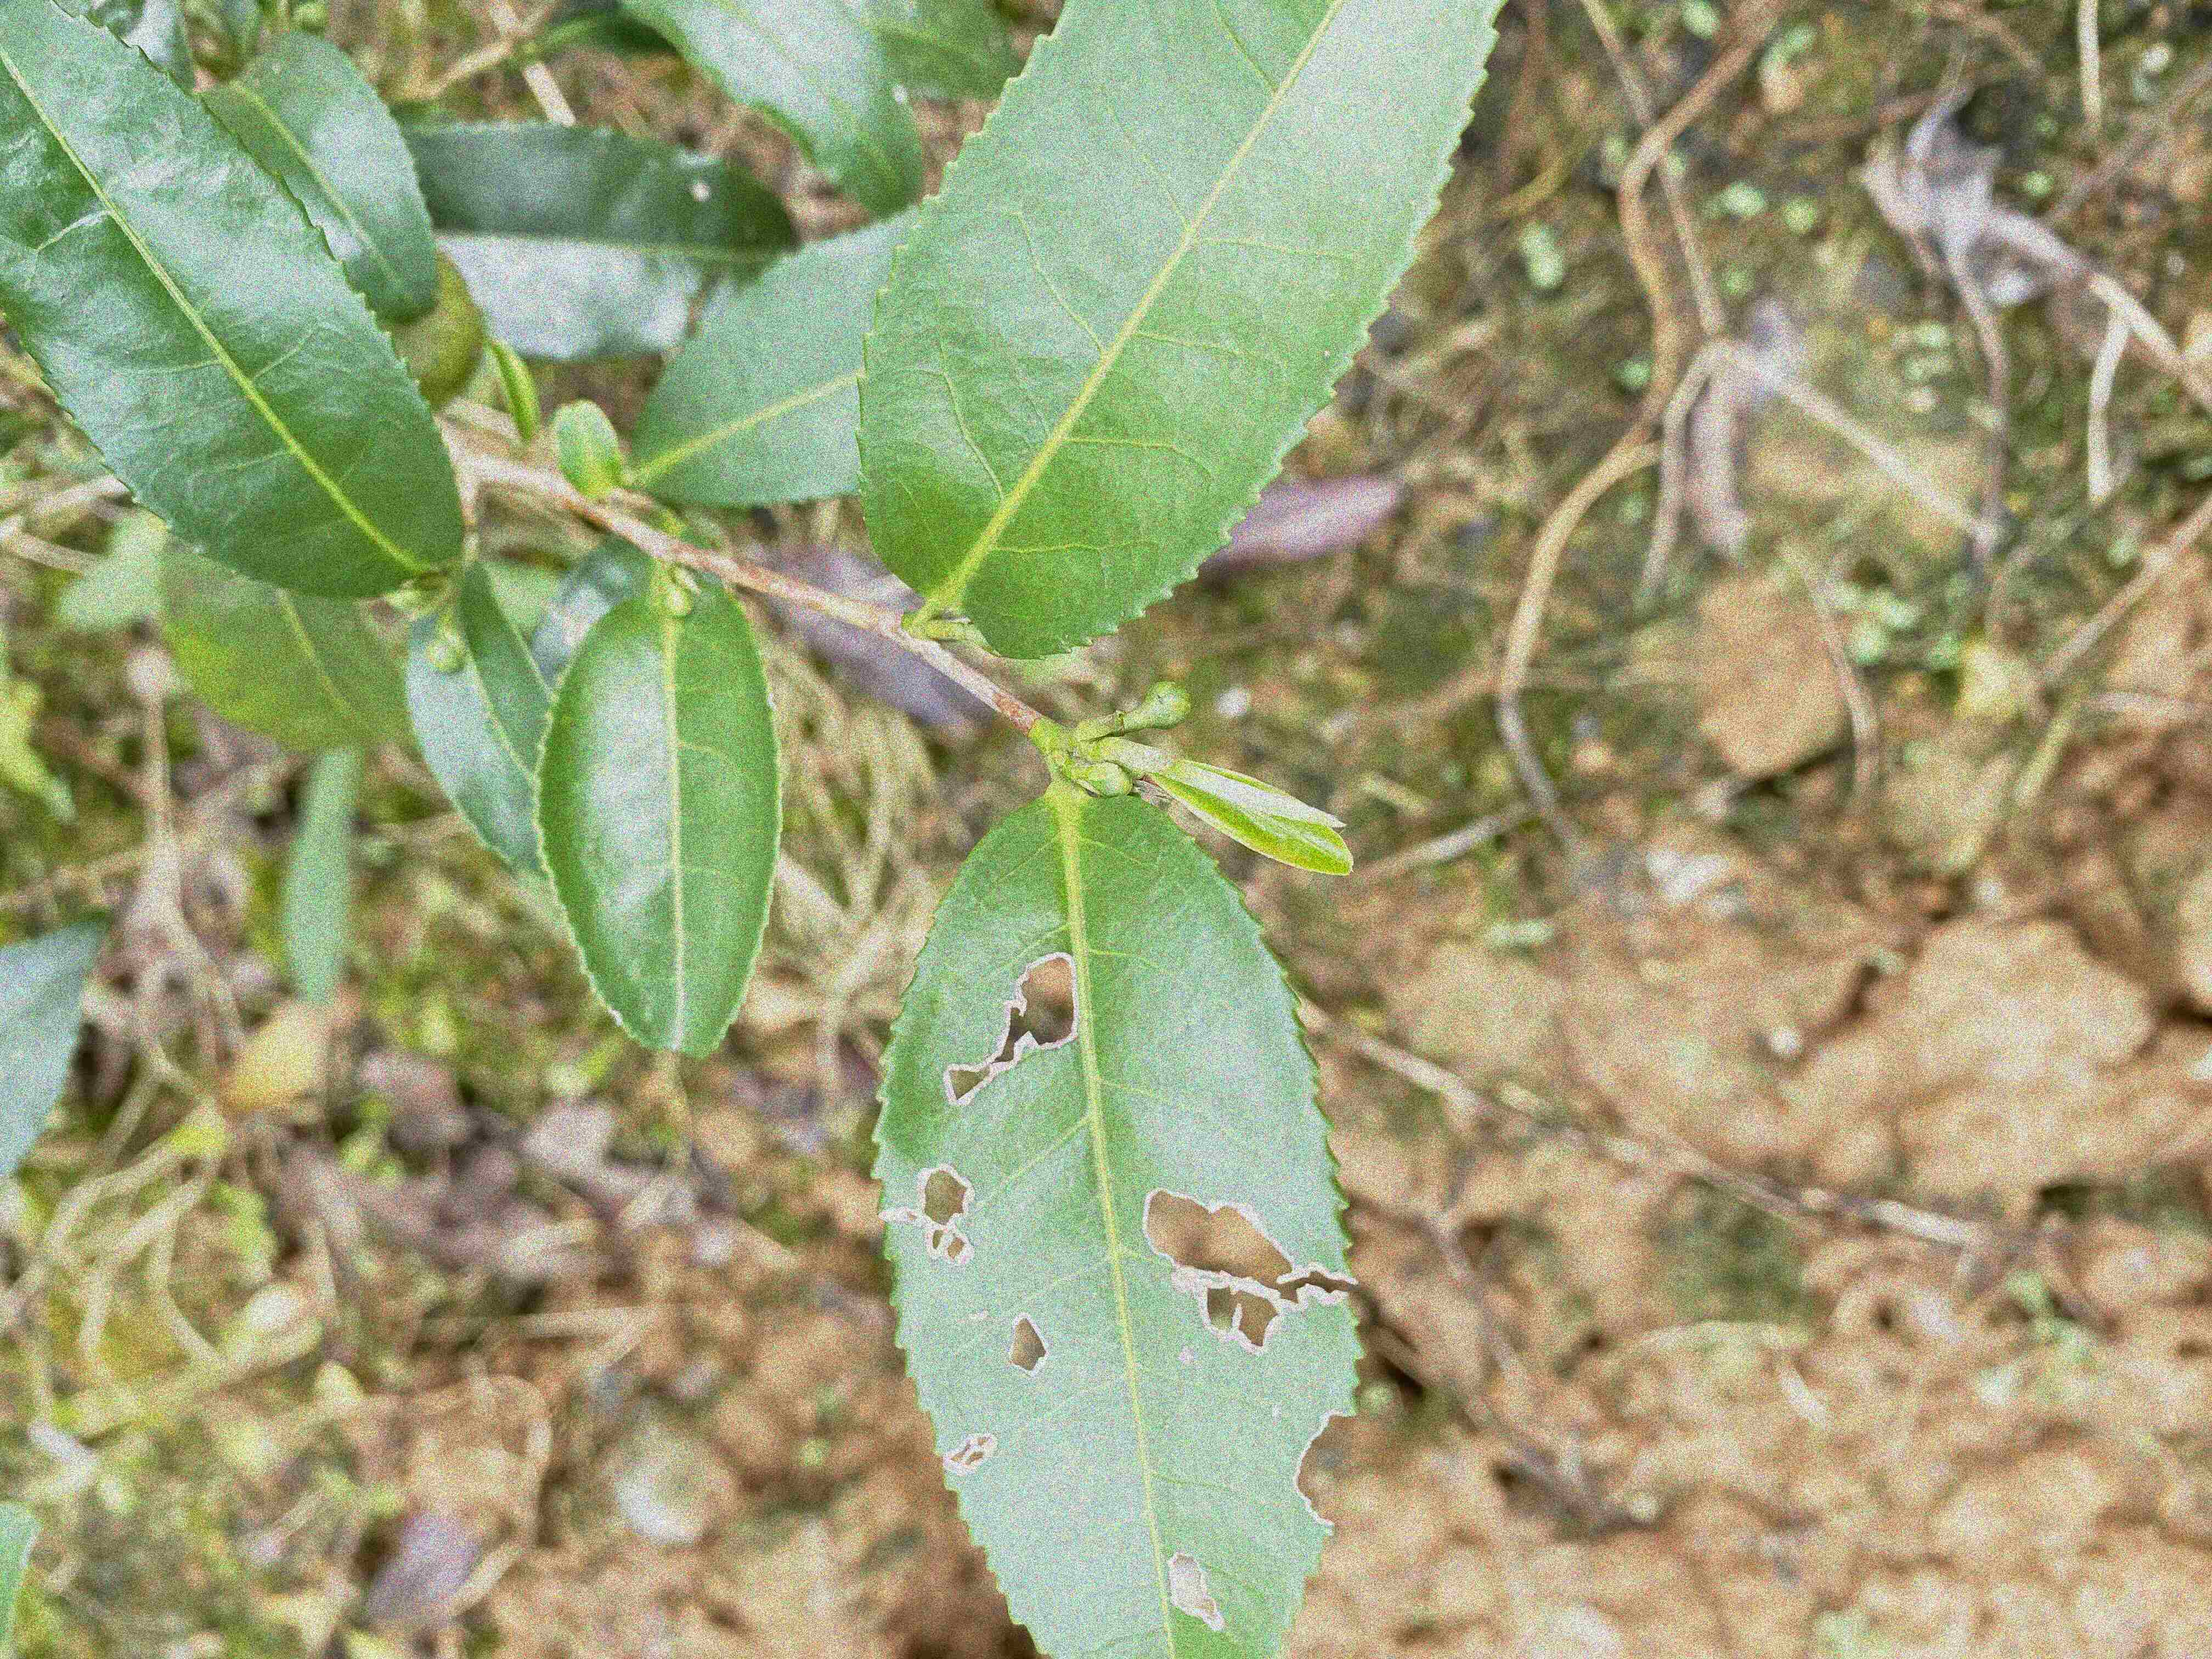chihuo_high: (873, 786, 1364, 1656)
healthy: (853, 3, 1510, 662), (3, 3, 465, 601), (531, 579, 777, 1060)
